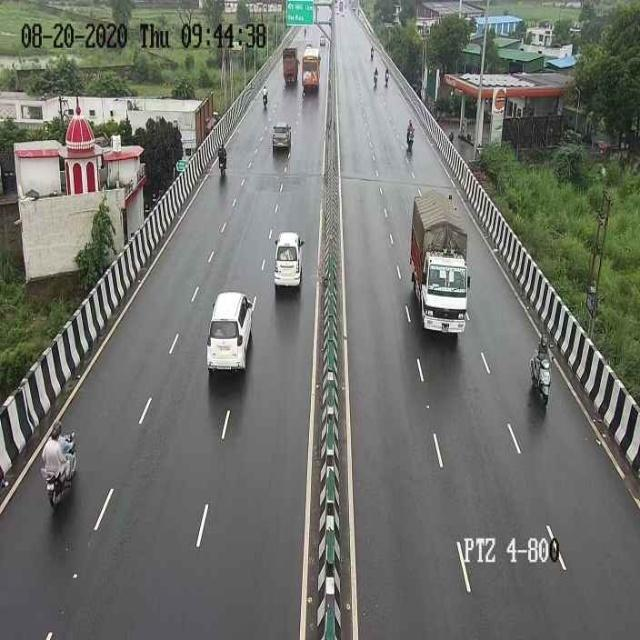car: (201, 283, 253, 379), (271, 224, 305, 297), (266, 119, 296, 160)
